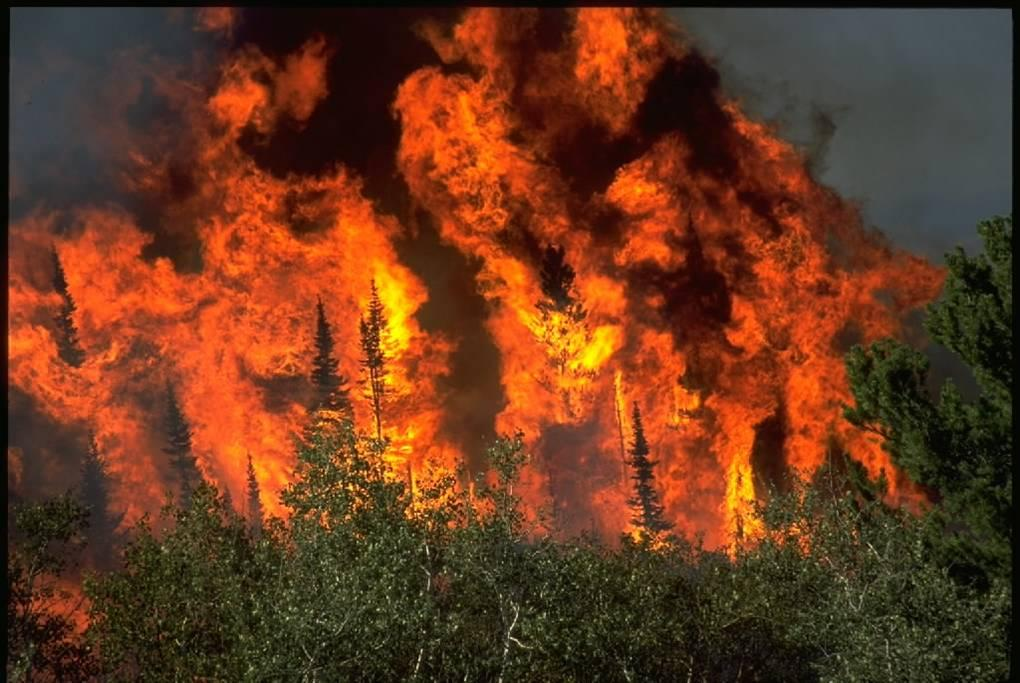fire: (32, 42, 975, 682)
